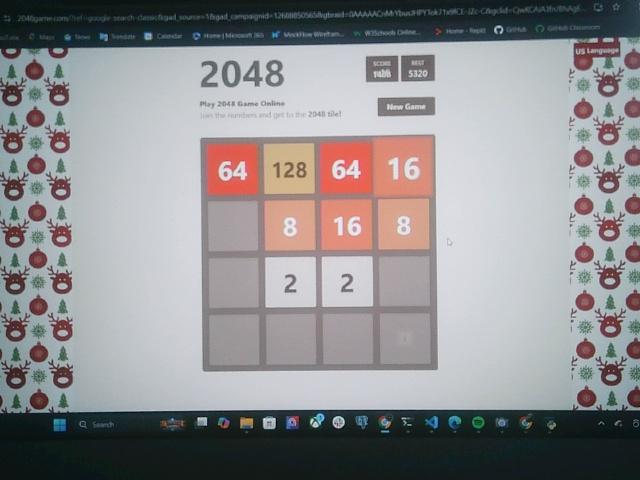board: (201, 137, 437, 368)
tile: (376, 140, 433, 196), (320, 142, 373, 194), (321, 199, 373, 251), (206, 143, 258, 194), (265, 199, 316, 251), (379, 199, 431, 250), (265, 256, 316, 308), (323, 257, 374, 308), (265, 143, 316, 193)
